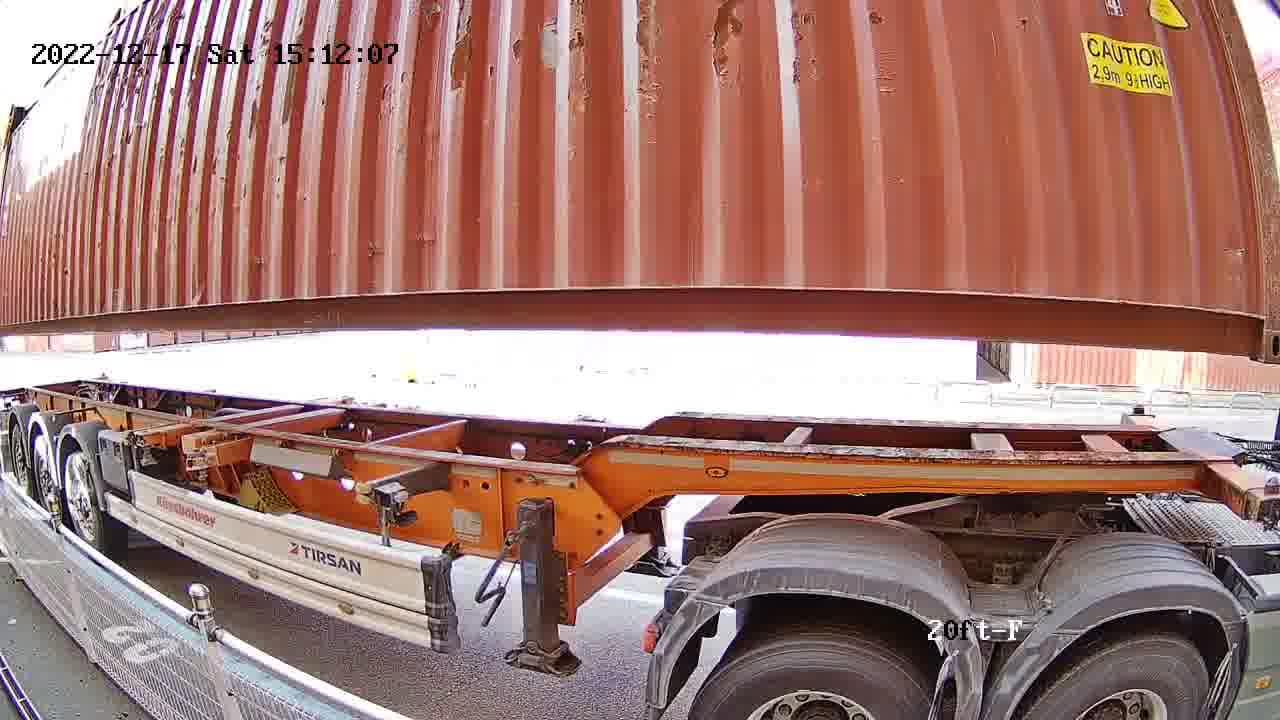Hole_R: (1222, 288, 1279, 361)
Tire: (686, 642, 936, 716), (1027, 642, 1209, 713)
